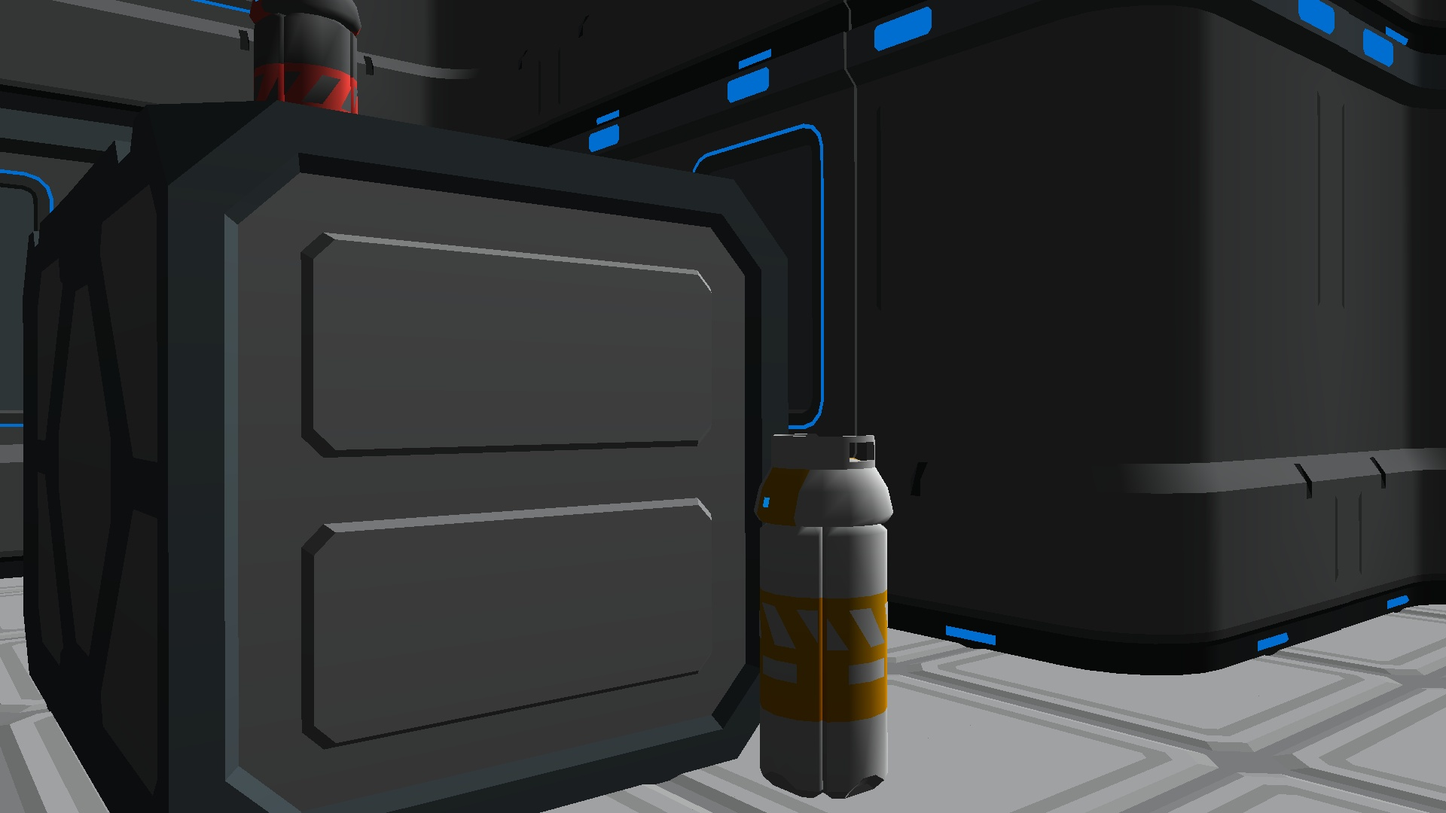red barrel: (249, 0, 362, 114)
yellow barrel: (753, 433, 894, 799)
